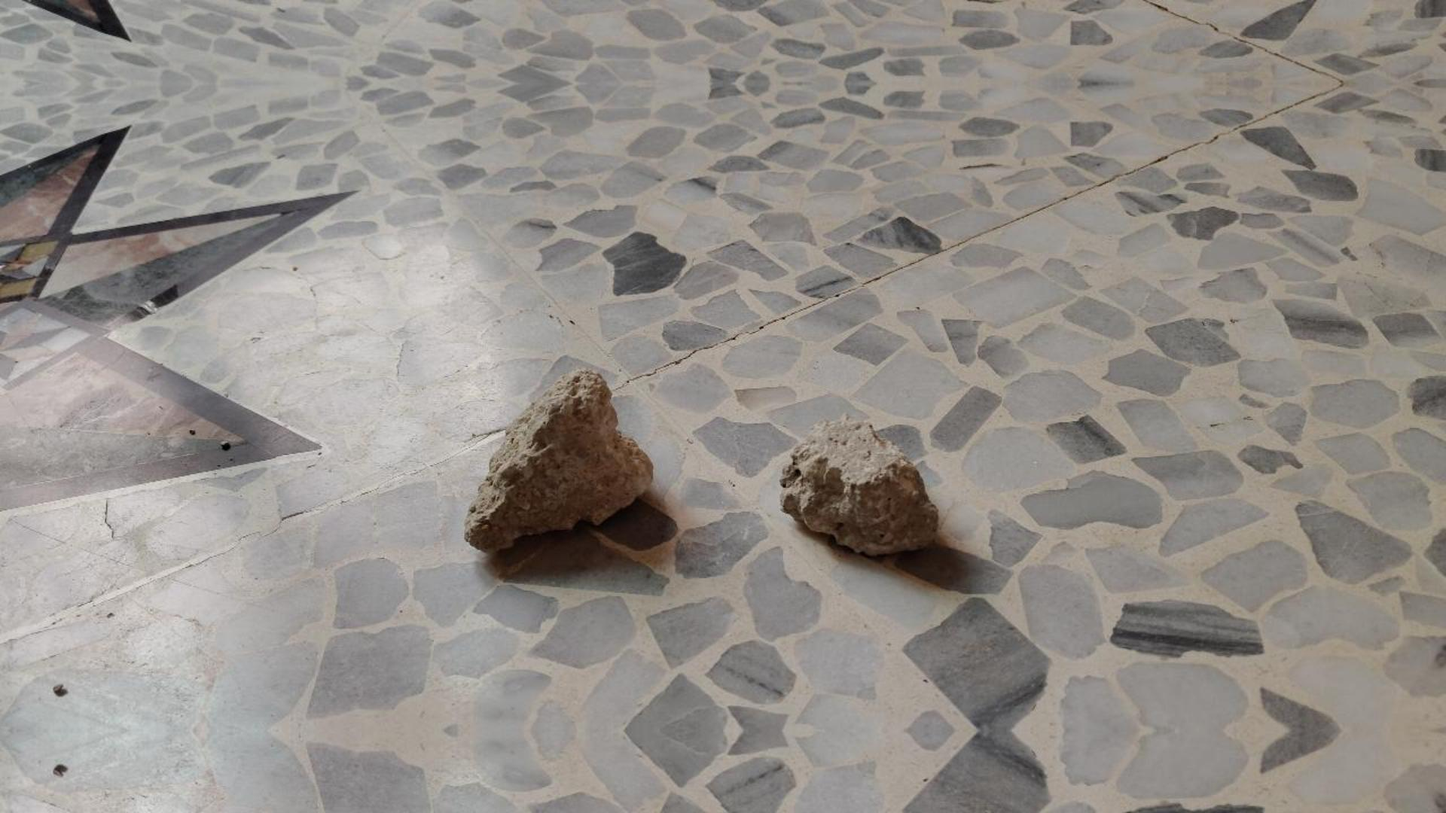rock: (464, 368, 652, 551), (779, 418, 938, 554)
